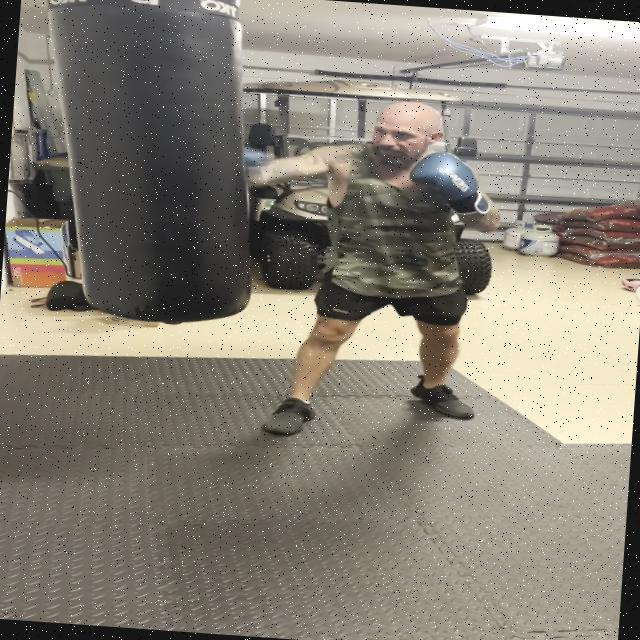cross: (216, 78, 520, 260)
